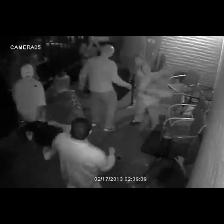person: (27, 118, 115, 187), (79, 45, 131, 131), (132, 66, 173, 130), (13, 65, 46, 122), (47, 72, 83, 124), (129, 55, 150, 107), (79, 36, 100, 66), (79, 37, 100, 65)
